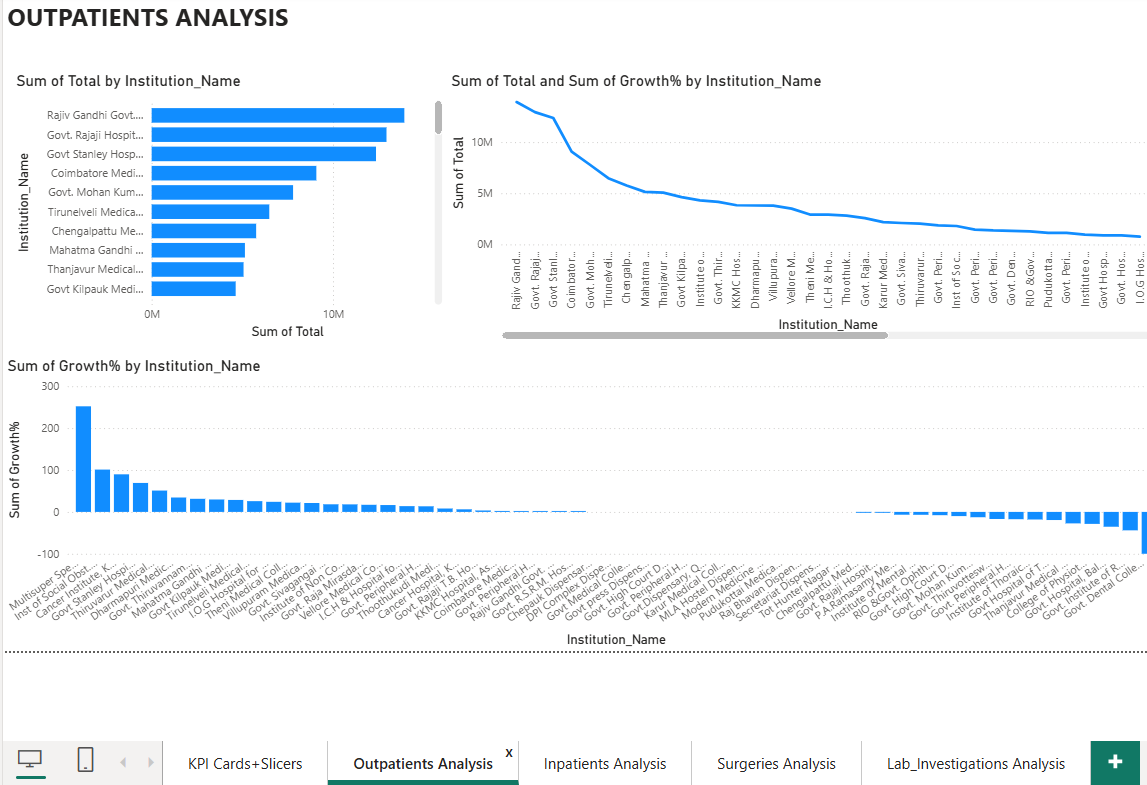

This screenshot's page, from the dashboard's own definition file:
{"tool":"powerbi","page":{"name":"Outpatients Analysis","canvas":[1280,720],"ordinal":1},"visuals":[{"type":"clusteredBarChart","fields":{"Category":["Outpatients.Institution_Name"],"Y":["Sum(Outpatients.Total)"]},"box":[9.6,83.7,477.5,299.1],"z":0},{"type":"lineChart","fields":{"Category":["Outpatients.Institution_Name"],"Y":["Sum(Outpatients.Total)"]},"box":[487.1,83.7,782.2,299.1],"z":1000},{"type":"textbox","box":[0,0,911.2,45.3],"z":2000},{"type":"clusteredColumnChart","fields":{"Category":["Outpatients.Institution_Name"],"Y":["Sum(Outpatients.Growth%)"]},"box":[0,396.6,1280.3,323.8],"z":3000}]}

Visuals, with their boxes on the page's 1280x720 design canvas (x1, y1, x2, y2). These are canvas units, not pixel positions in the 1147x785 screenshot, which may show the page scaled, cropped or inside an application window:
clusteredBarChart - Outpatients.Institution_Name x Sum(Outpatients.Total): select_region(10, 84, 487, 383)
lineChart - Outpatients.Institution_Name x Sum(Outpatients.Total): select_region(487, 84, 1269, 383)
textbox: select_region(0, 0, 911, 45)
clusteredColumnChart - Outpatients.Institution_Name x Sum(Outpatients.Growth%): select_region(0, 397, 1280, 720)
